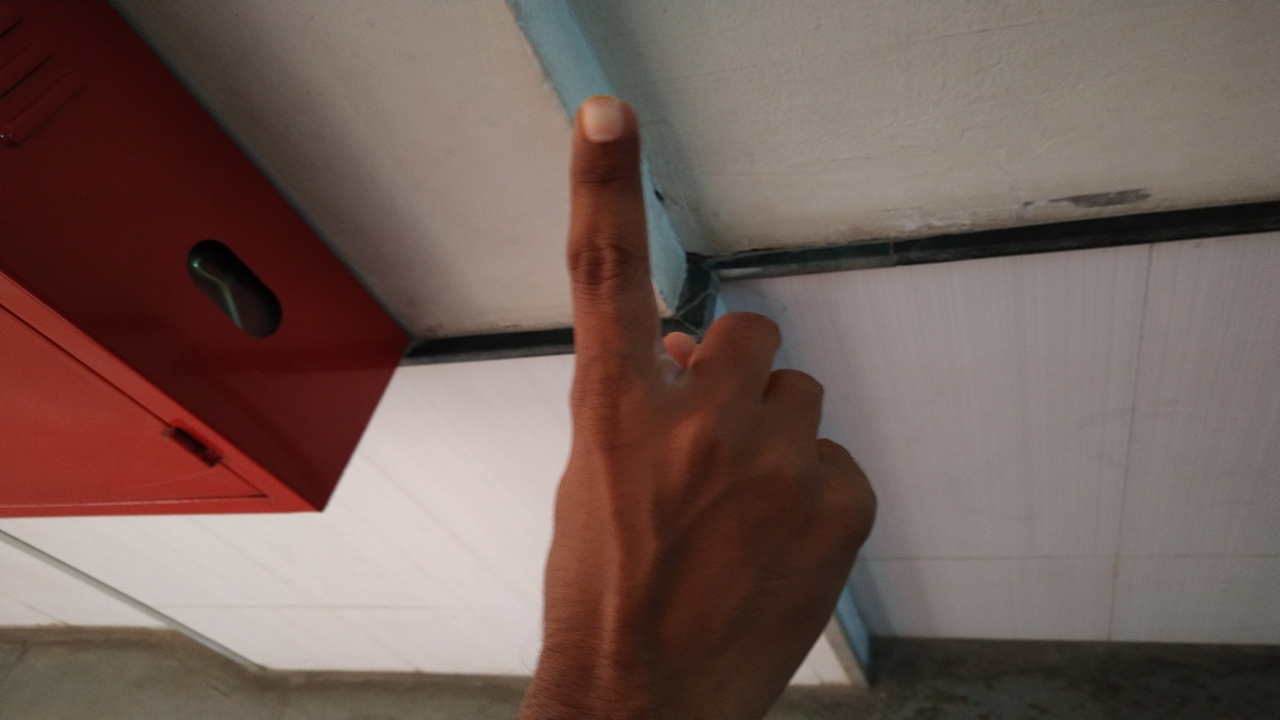fingertip: (566, 90, 638, 154)
